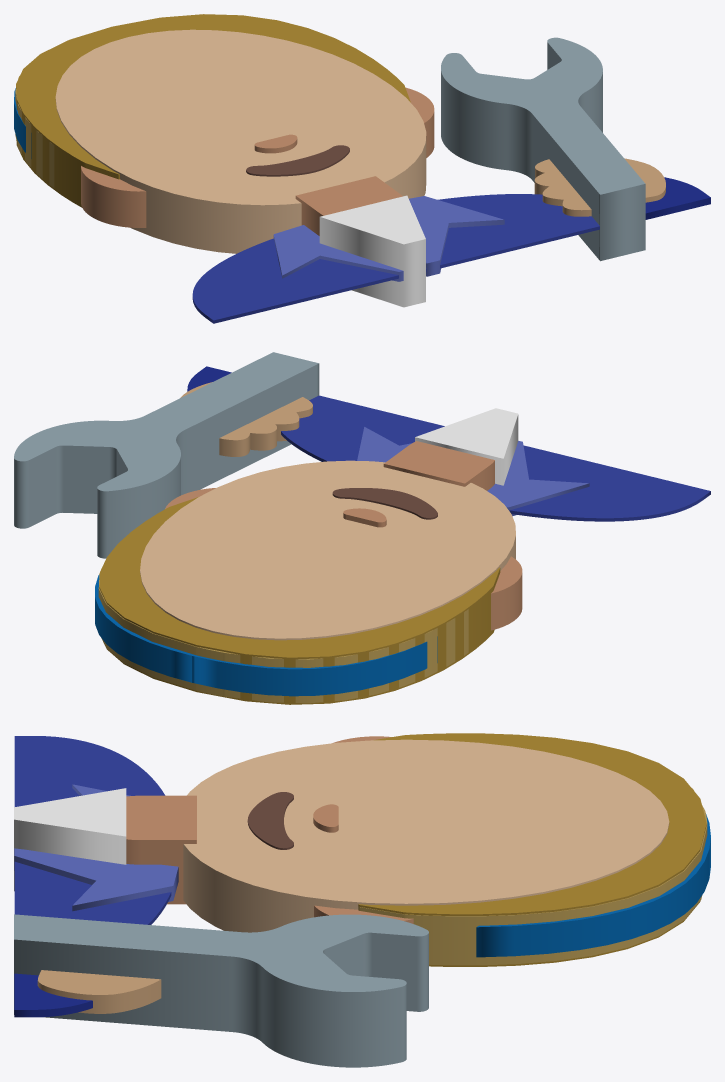
File: emoji_u1f468_1f3fc_200d_1f527.glb
3 views of the same model, one above another, from view 1: azimuth 30°, elevation 25°; view 2: azimuth 150°, elevation 25°; view 3: azimuth 270°, elevation 25° (orthographic). The views are drawn at different scales.
Visible parts, largest first — view 1: emoji_u1f468_1f3fc_200d_1f527; view 2: emoji_u1f468_1f3fc_200d_1f527; view 3: emoji_u1f468_1f3fc_200d_1f527.
Part boxes in pixels (x1,y1,x2,y2): emoji_u1f468_1f3fc_200d_1f527: [14, 14, 710, 323]; emoji_u1f468_1f3fc_200d_1f527: [14, 352, 710, 704]; emoji_u1f468_1f3fc_200d_1f527: [14, 733, 710, 1067].
Size of the model in its own units: 0.0332 by 0.004 by 0.0335.
